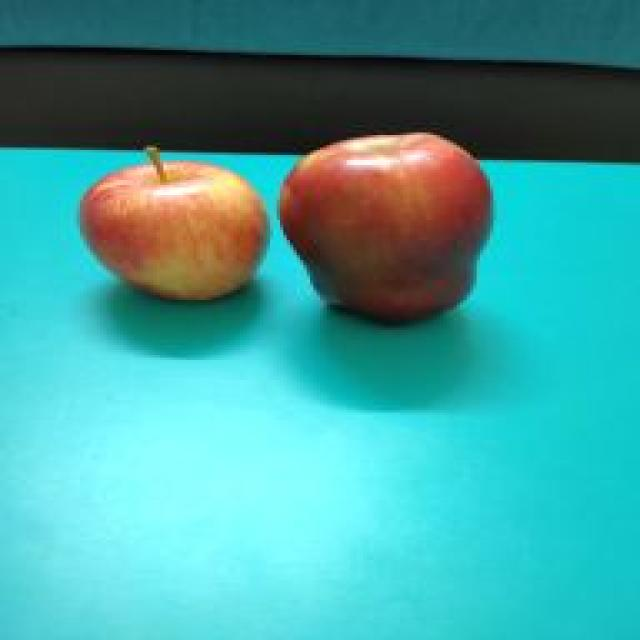Good_Apple: (277, 132, 493, 328), (80, 150, 270, 305)
